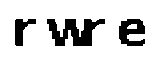e: (116, 17, 145, 50)
r: (82, 16, 109, 49), (13, 16, 39, 47)
w: (44, 16, 86, 49)
